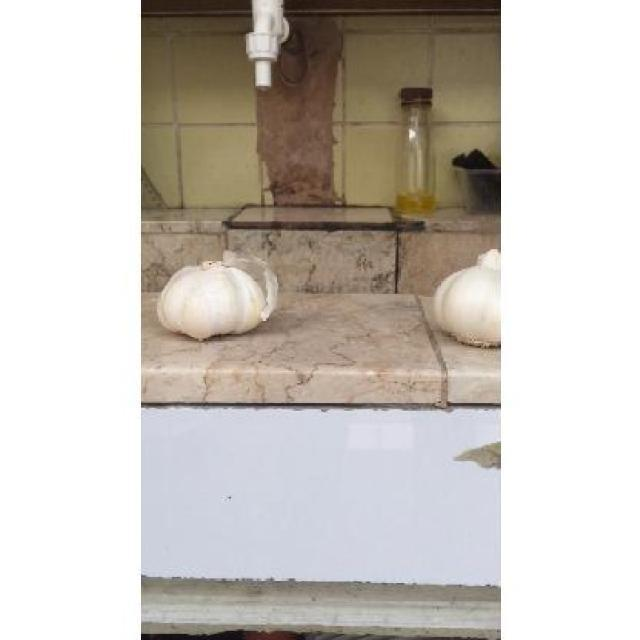garlic: (158, 250, 279, 339), (432, 249, 500, 347)
